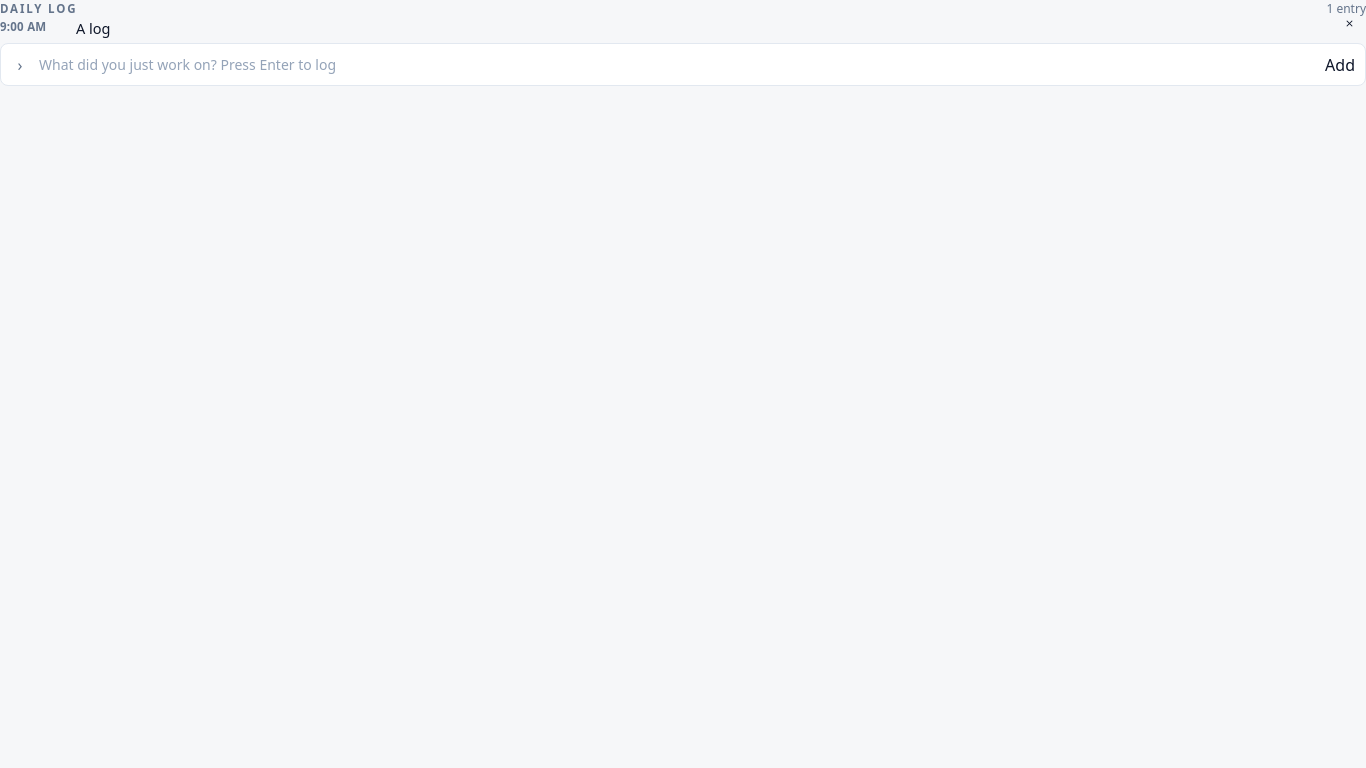
Test case: journal undo acceptance (note, log, subtask) › AC9: a log delete shows the "Log entry deleted" status toast with an Undo button
This screenshot has width=1366, height=768.
Click the button named "Delete entry" at [1355, 24], box x1=1344 y1=18 x2=1365 y2=29
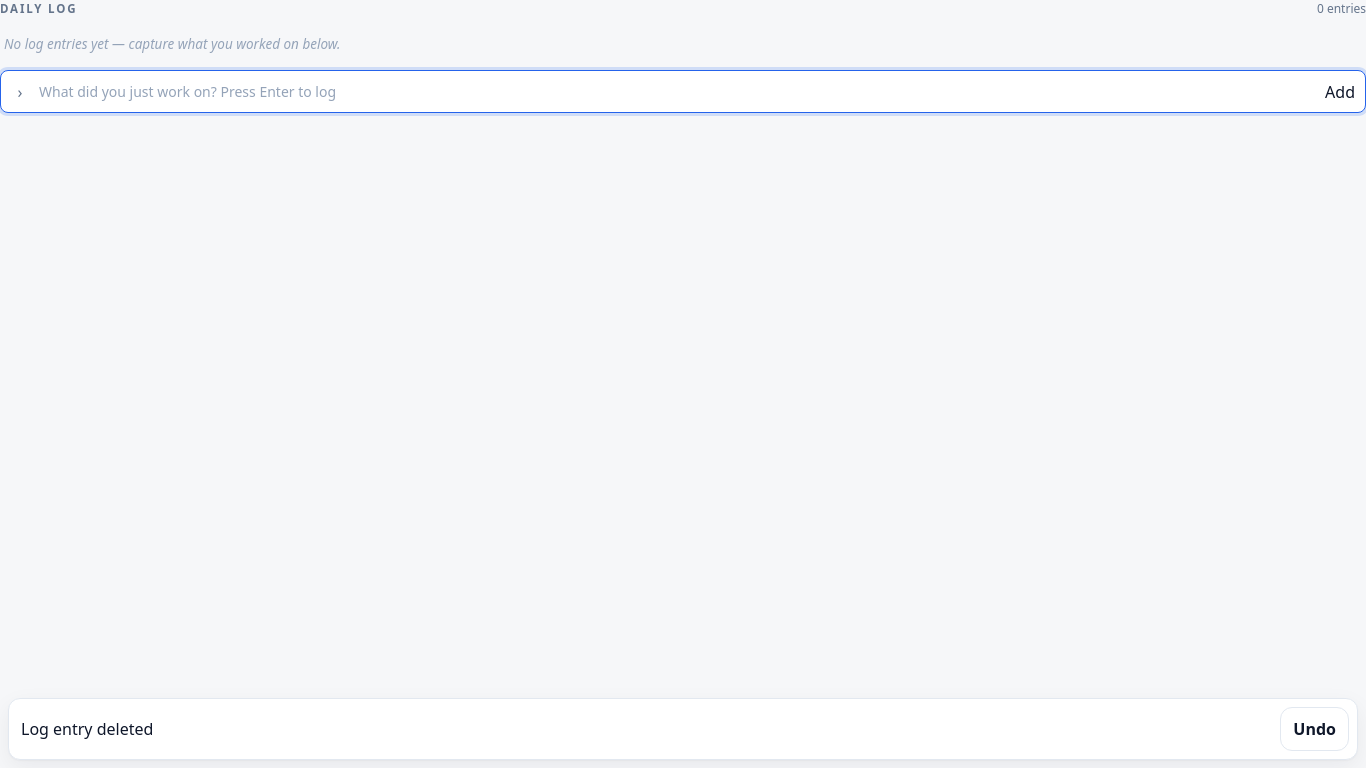
Expected: the message shows "Log entry deleted", x1=21 y1=718 x2=153 y2=740
Expected: the button "Undo" is shown, x1=1280 y1=707 x2=1349 y2=751
